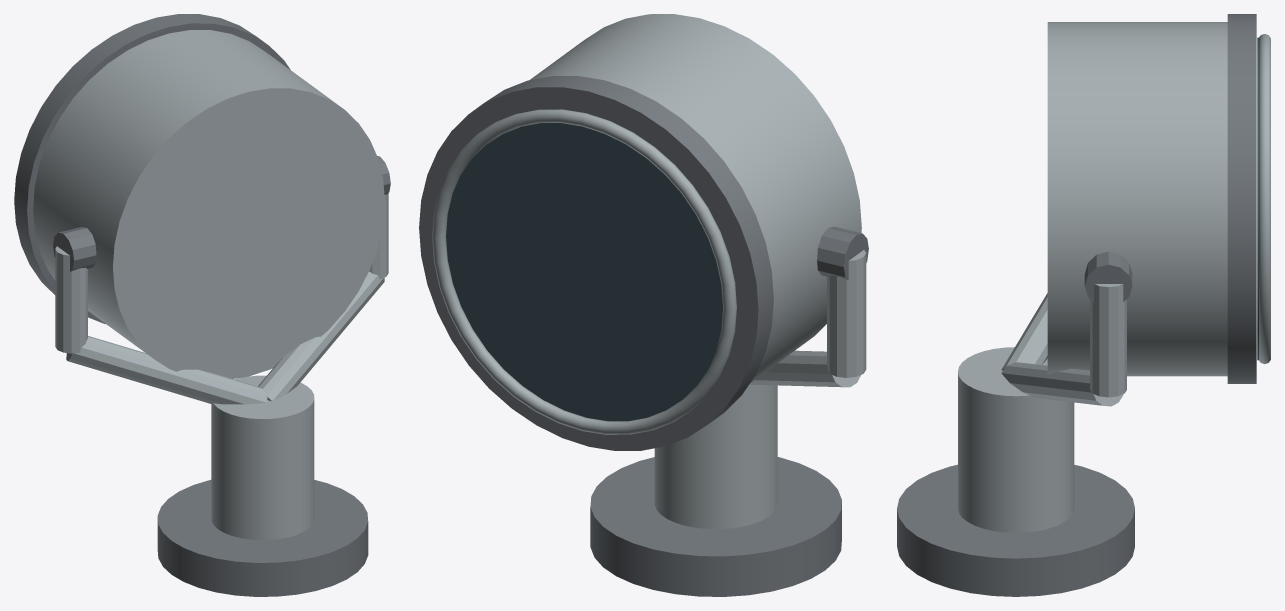
3 renders of one model, left to right at view 1: azimuth 30°, elevation 25°; view 2: azimuth 150°, elevation 25°; view 3: azimuth 270°, elevation 25°, orthographic. The views are drawn at different scales.
Parts seen in each view (by area): view 1: component.root.mesh; view 2: component.root.mesh; view 3: component.root.mesh.
Boxes of the visible parts, x1,y1,x2,y2 form: component.root.mesh: [14, 14, 390, 596]; component.root.mesh: [419, 14, 868, 596]; component.root.mesh: [897, 14, 1270, 596].
Bounding box in the file's own units: 1.62 × 2.15 × 1.41.
